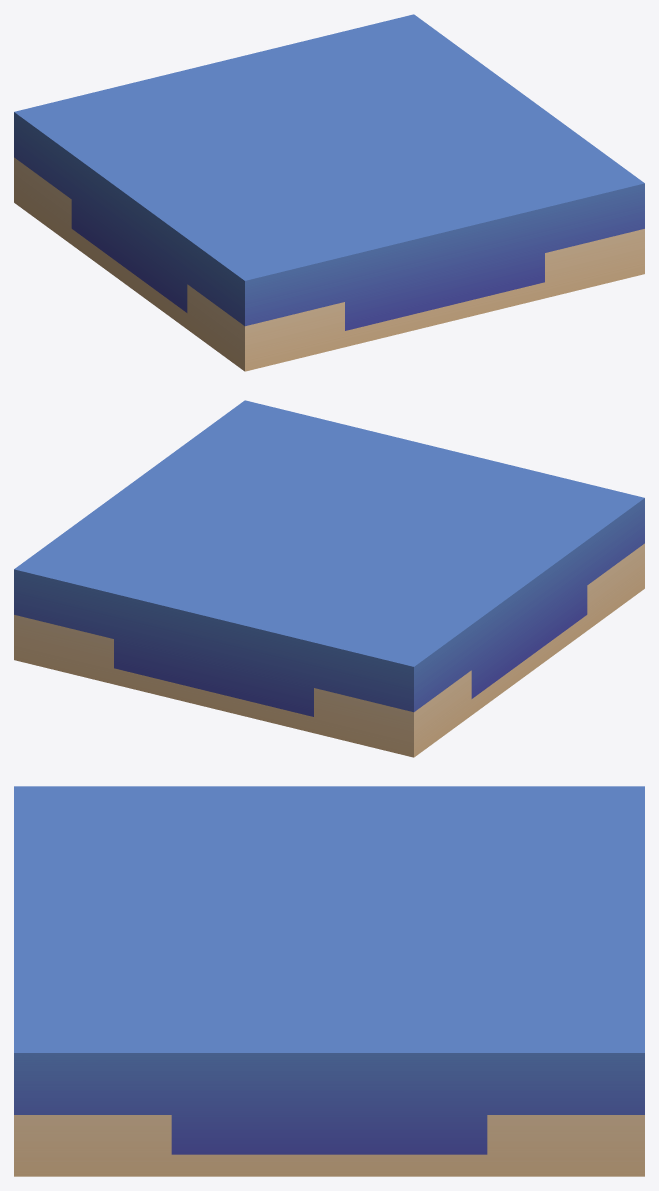
File: tower-square-mid-color.obj
3 renders of one model, top to bottom at view 1: azimuth 30°, elevation 25°; view 2: azimuth 150°, elevation 25°; view 3: azimuth 270°, elevation 25°, orthographic. The views are drawn at different scales.
Visible parts, largest first — view 1: tower-square-mid-color; view 2: tower-square-mid-color; view 3: tower-square-mid-color.
Part boxes in pixels (x1,y1,x2,y2): tower-square-mid-color: (14,14,644,371); tower-square-mid-color: (14,400,644,757); tower-square-mid-color: (14,786,644,1176).
Bounding box in the file's own units: 0.93 × 0.2016 × 0.93.
1 material, 1 textured.
